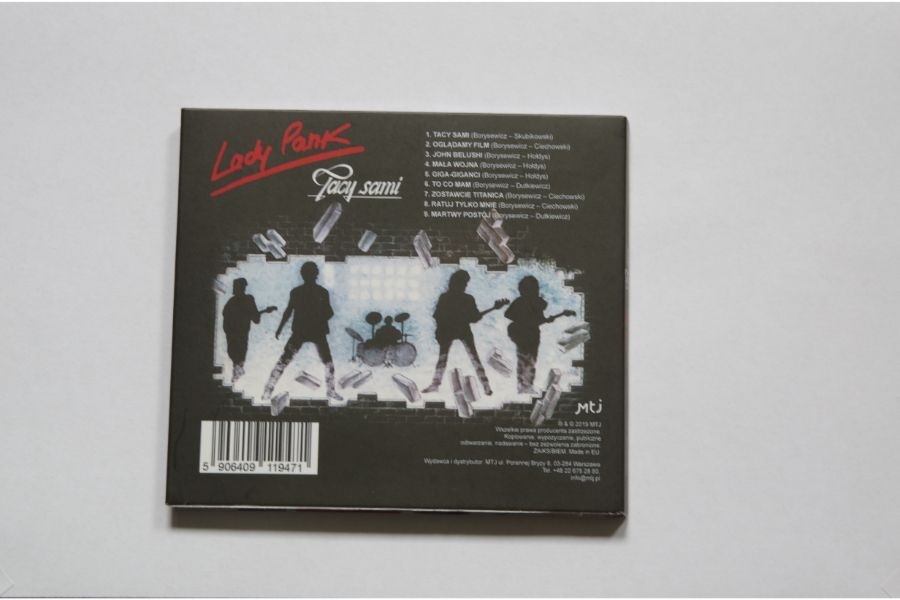album: (162, 106, 629, 516)
